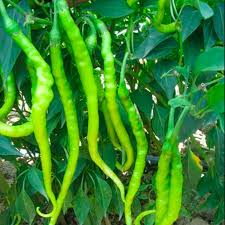Pepper: (54, 7, 105, 205), (8, 21, 52, 224), (119, 81, 149, 225)
